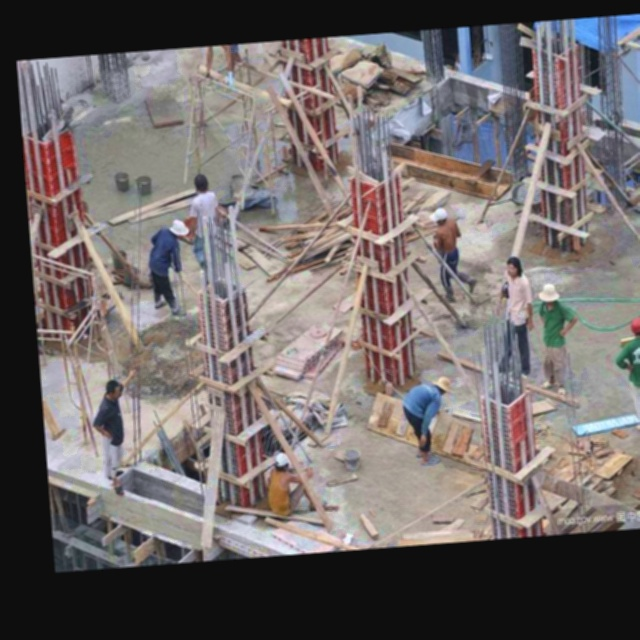Sin_Casco_Mascarrilla: (536, 282, 561, 308), (427, 206, 450, 229), (432, 375, 453, 396), (505, 256, 522, 280)
